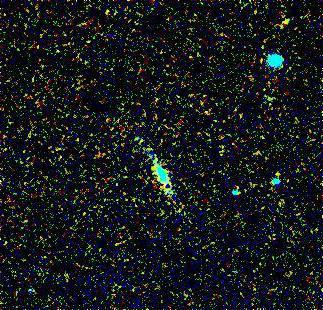star: (270, 6, 300, 36)
